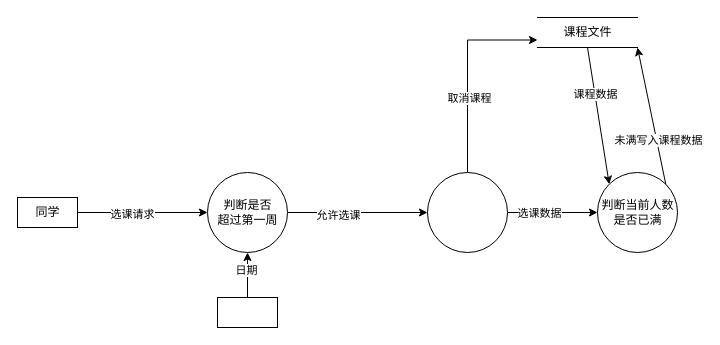
Image size: 720x345. Some labels were removed from this diagram. The centre of each missing label's shape, as x and y in pixels:
"判断为取消请求 还是选课请求" goes at [467,212].
"时钟" goes at [247,312].
